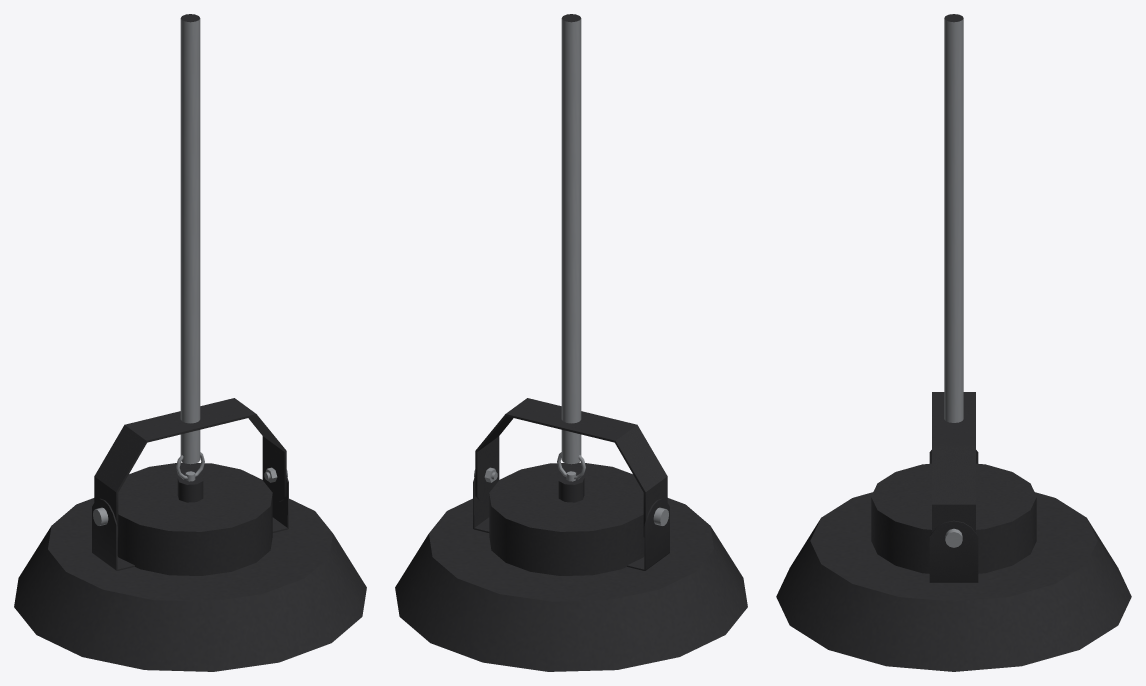
File: SM05_Electronics_Light_Ceiling_01.fbx
3 views of the same model, side by side, from view 1: azimuth 30°, elevation 25°; view 2: azimuth 150°, elevation 25°; view 3: azimuth 270°, elevation 25° (orthographic).
Parts seen in each view (by area): view 1: SM05_Electronics_Light_Ceiling_01_Head, SM05_Electronics_Light_Ceiling_01_Bar, SM05_Electronics_Light_Ceiling_01_Handle; view 2: SM05_Electronics_Light_Ceiling_01_Head, SM05_Electronics_Light_Ceiling_01_Bar, SM05_Electronics_Light_Ceiling_01_Handle; view 3: SM05_Electronics_Light_Ceiling_01_Head, SM05_Electronics_Light_Ceiling_01_Bar, SM05_Electronics_Light_Ceiling_01_Handle.
Part boxes in pixels (<box>): SM05_Electronics_Light_Ceiling_01_Head: <box>14,452,366,671</box>; SM05_Electronics_Light_Ceiling_01_Bar: <box>180,14,200,464</box>; SM05_Electronics_Light_Ceiling_01_Handle: <box>93,398,287,537</box>; SM05_Electronics_Light_Ceiling_01_Head: <box>395,452,747,671</box>; SM05_Electronics_Light_Ceiling_01_Bar: <box>561,14,581,464</box>; SM05_Electronics_Light_Ceiling_01_Handle: <box>474,398,668,537</box>; SM05_Electronics_Light_Ceiling_01_Head: <box>776,450,1131,671</box>; SM05_Electronics_Light_Ceiling_01_Bar: <box>944,14,963,422</box>; SM05_Electronics_Light_Ceiling_01_Handle: <box>932,392,975,547</box>.
Bounding box in the file's own units: 0.365 × 0.6557 × 0.365.
